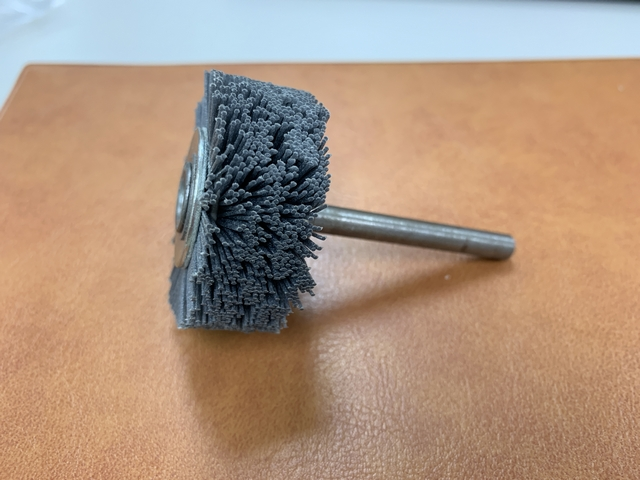Wheel Brush: (163, 62, 527, 340), (149, 78, 518, 318), (147, 39, 431, 348)
